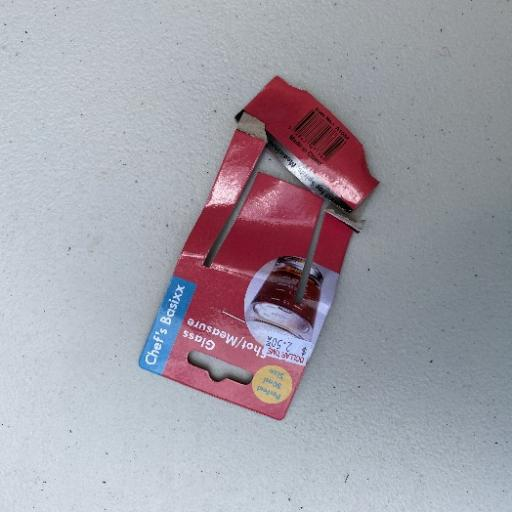Cardboard: (136, 74, 380, 421)
